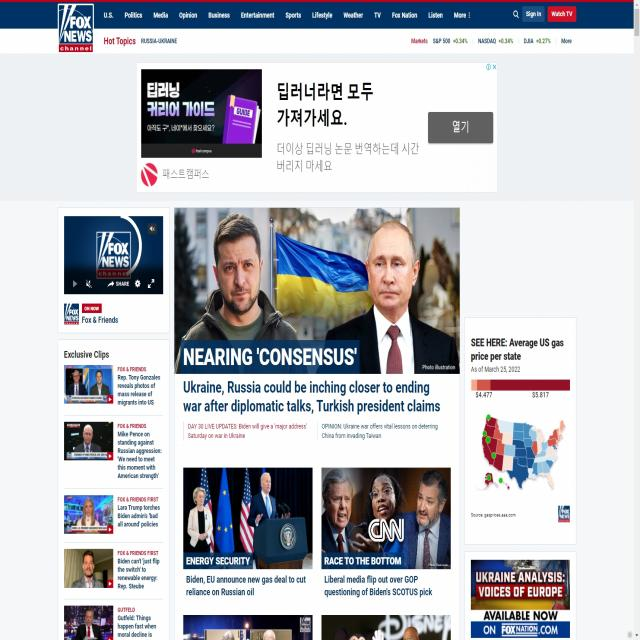menu-bar: (96, 2, 578, 28)
side-panel: (54, 336, 170, 640)
